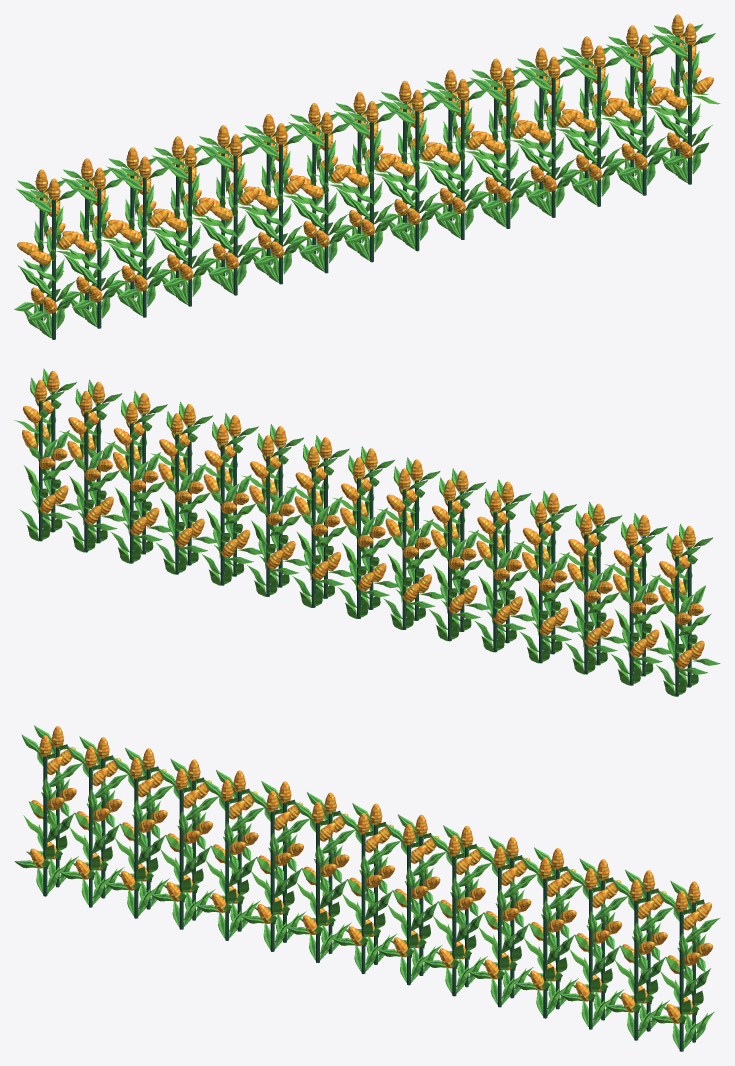
File: LaberintoLargo.fbx
The picture shows the model from 3 angles, top to bottom: view 1: azimuth 30°, elevation 25°; view 2: azimuth 150°, elevation 25°; view 3: azimuth 330°, elevation 25°; orthographic projection.
Visible parts, largest first — view 1: CHOCLO.5217; view 2: CHOCLO.5217; view 3: CHOCLO.5217.
Part boxes in pixels (x1,y1,x2,y2): CHOCLO.5217: (14,14,720,339); CHOCLO.5217: (14,368,720,696); CHOCLO.5217: (14,725,719,1051).
Bounding box in the file's own units: 1035 × 232 × 86.6.
Materials: 23 (23 with a texture image).
